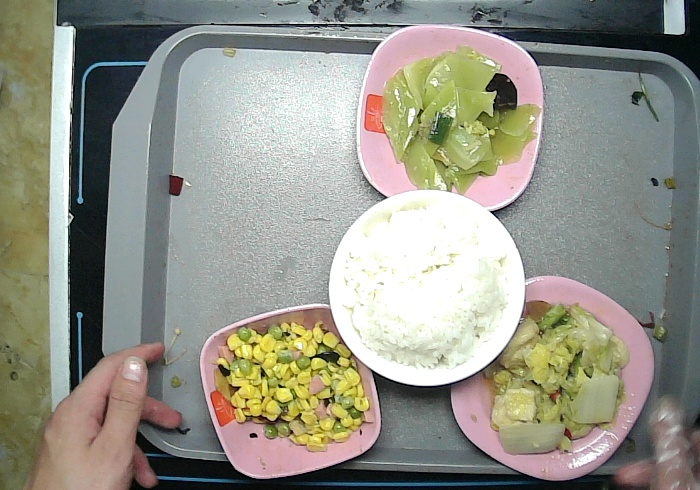SHKJ-Fan_Wan: (324, 189, 530, 393)
SHKJ-Fen_Se_Cai_Die: (353, 21, 548, 221)
SHKJ-Fen_Se_Si_Fang_Cai_Die: (445, 271, 657, 484)
SHKJ-Fen_Se_Xiao_Fang_Die: (194, 298, 391, 478)
